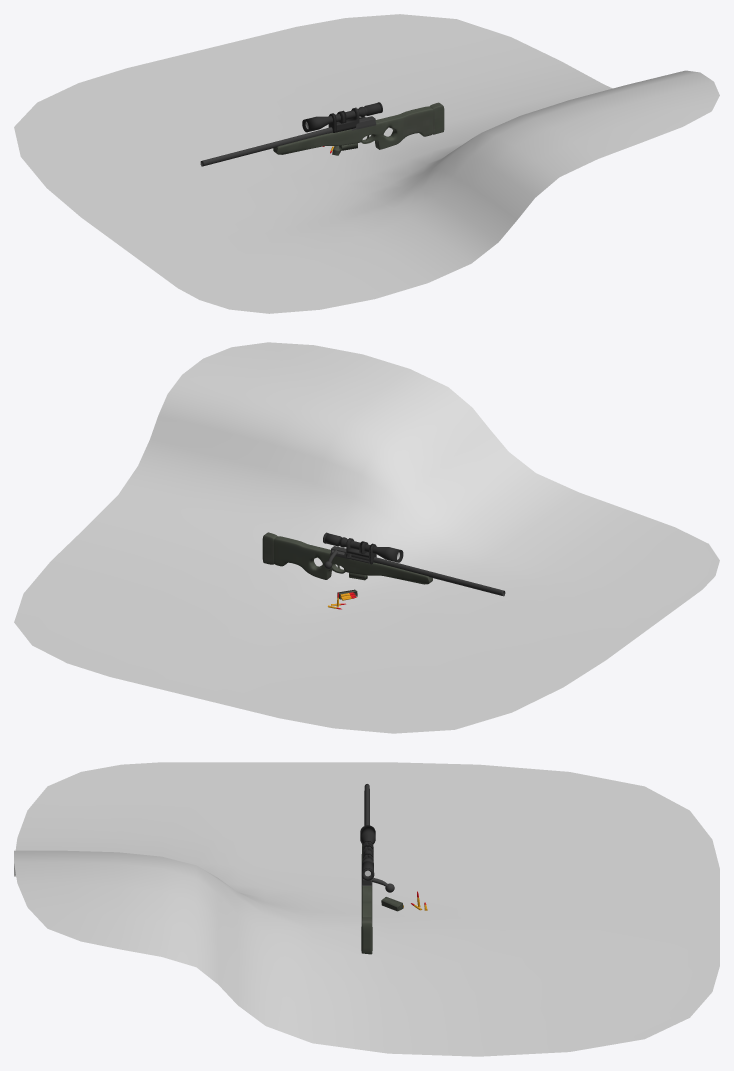
Rendered from AWP.fbx.
3 views of the same model, one above another, from view 1: azimuth 30°, elevation 25°; view 2: azimuth 150°, elevation 25°; view 3: azimuth 270°, elevation 25° (orthographic). The views are drawn at different scales.
Visible parts, largest first — view 1: Plane, Awp, Sight; view 2: Plane, Awp, Sight; view 3: Plane, Awp, Sight.
Part boxes in pixels (left/top/right/bottom): Plane: left=14, top=14, right=719, bottom=313; Awp: left=200, top=102, right=444, bottom=166; Sight: left=302, top=102, right=382, bottom=132; Plane: left=14, top=342, right=719, bottom=733; Awp: left=262, top=532, right=505, bottom=596; Sight: left=323, top=532, right=403, bottom=564; Plane: left=14, top=762, right=719, bottom=1056; Awp: left=361, top=784, right=372, bottom=954; Sight: left=360, top=825, right=375, bottom=880.
Size of the model in its own units: 21.23 by 3.67 by 21.23.
